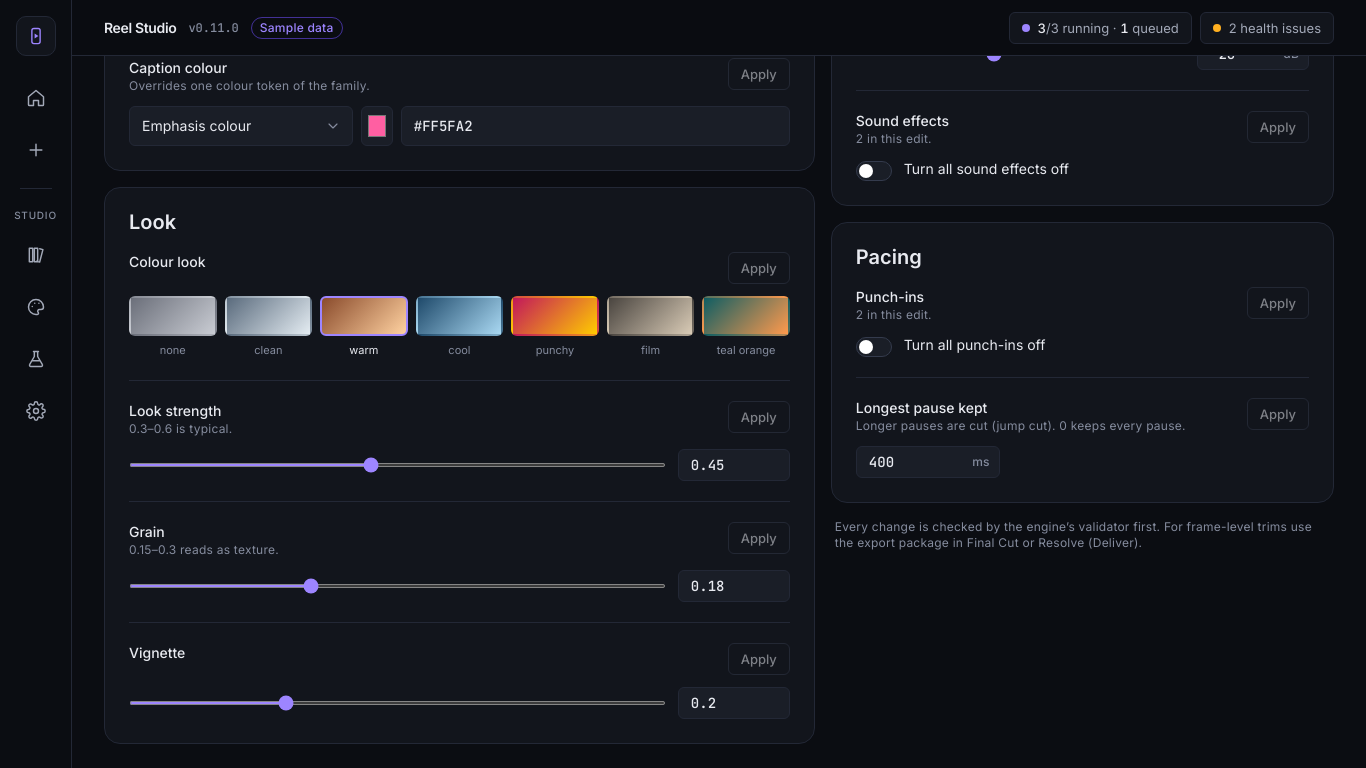
adjust validation display (FR-8, AC-12) › shows the engine validator's 422 issues after Apply
(page scrolled)
Replace the text in the field named "Longest pause kept" with "0" at (928, 462), box [856,446,1000,478]
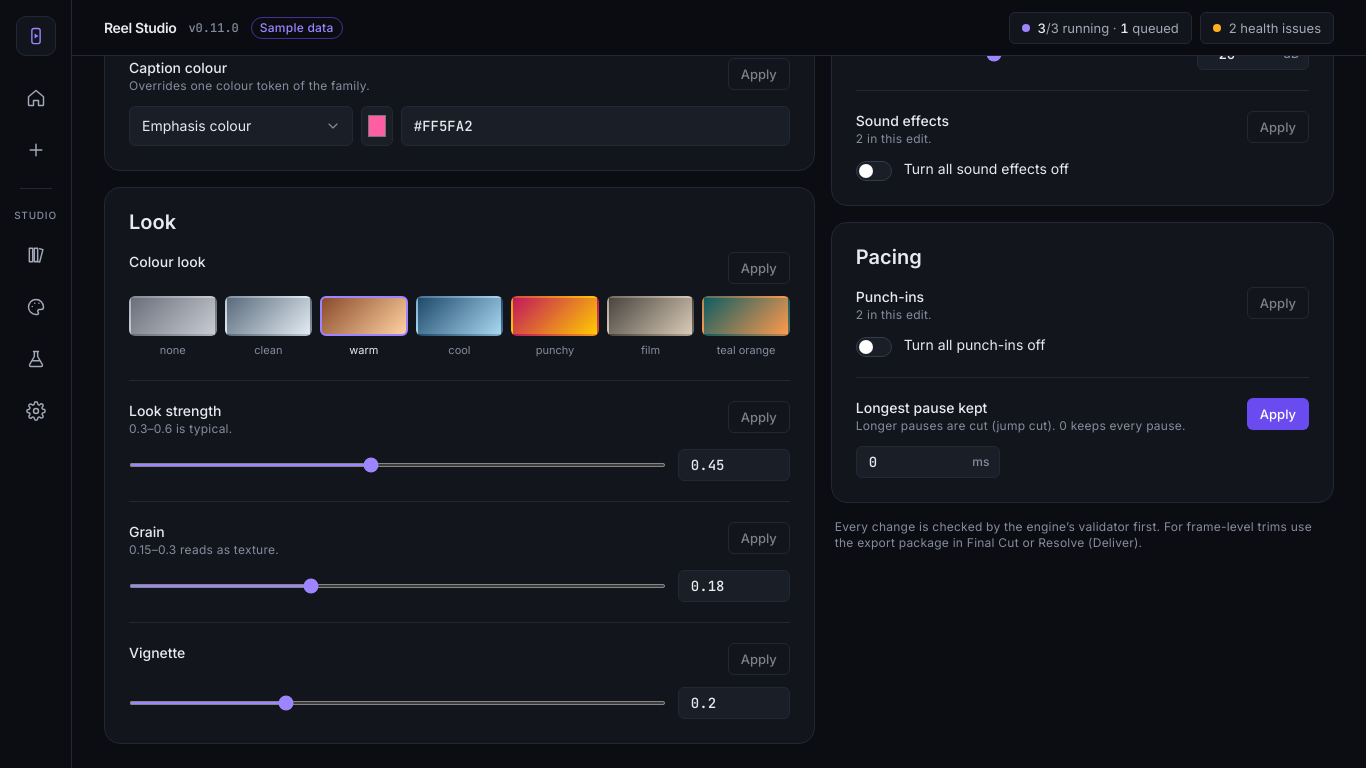
Click the button with aria-label "Apply longest pause kept" at (1278, 414), box [1247,398,1309,430]
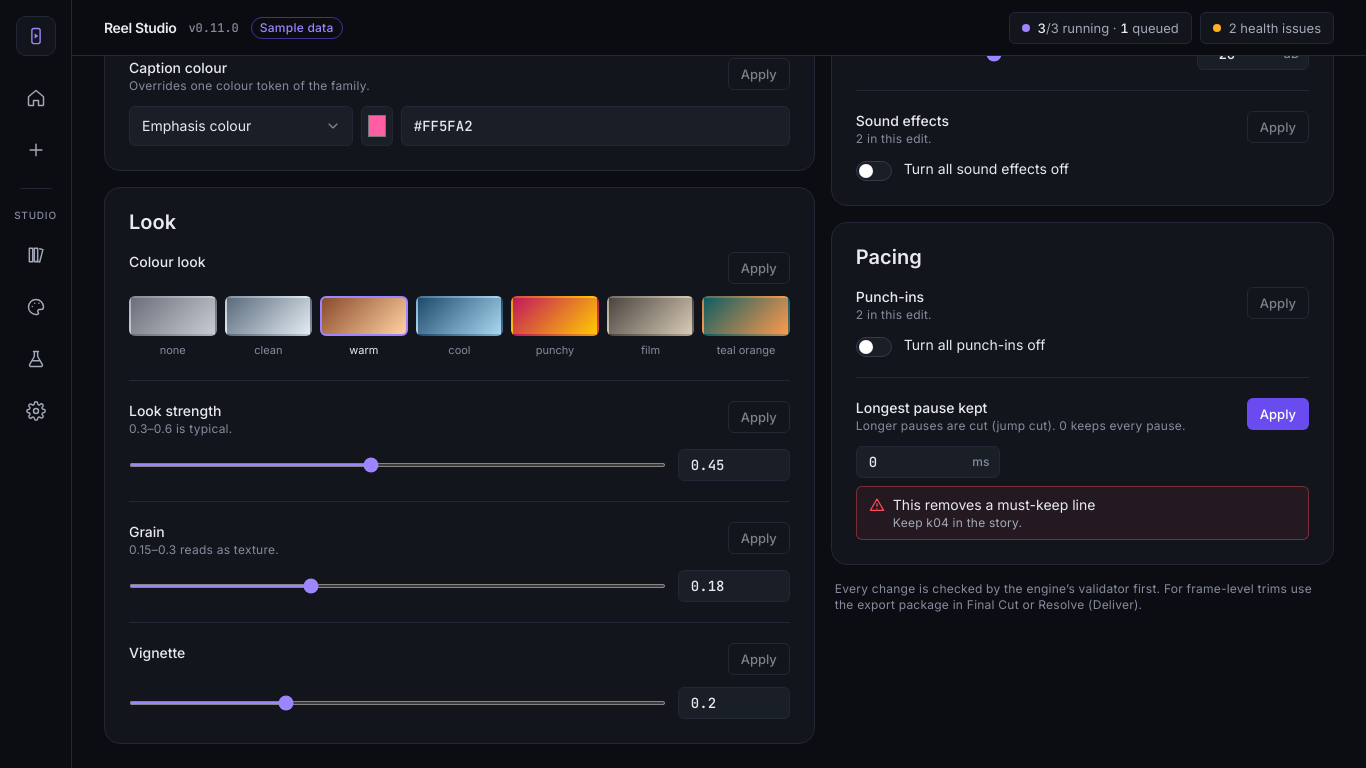
Expected: the text "This removes a must-keep line" is shown, [893,495,1095,515]
Expected: the text "Keep k04 in the story." is shown, [893,515,1022,530]
